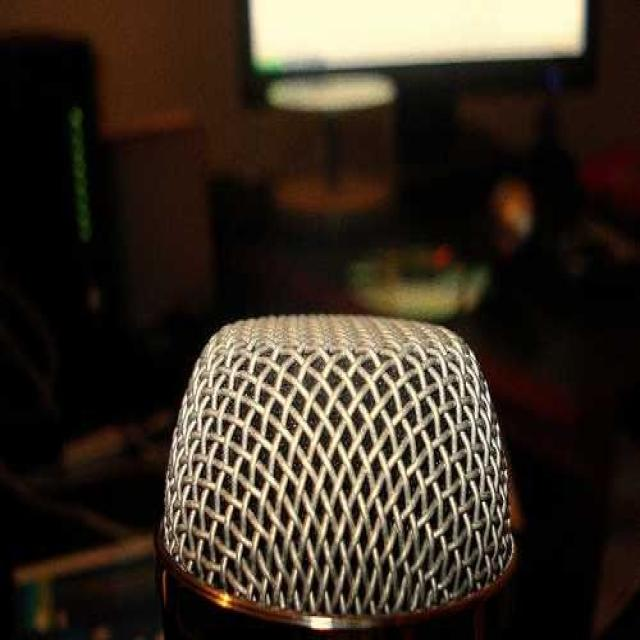microphone: (152, 311, 518, 637)
